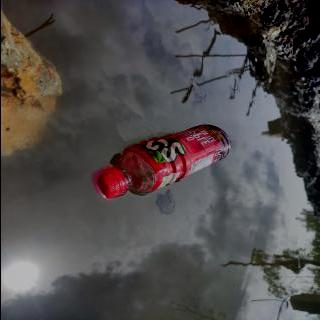bottle: (90, 122, 236, 200)
